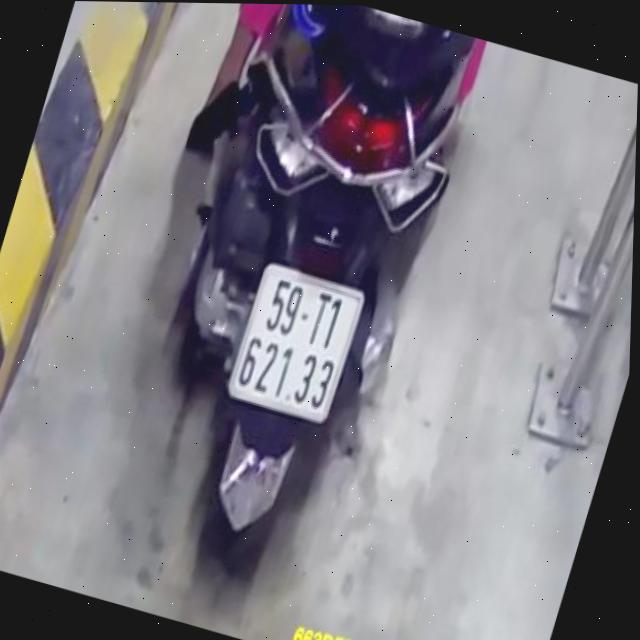motorcycle: (90, 2, 502, 609)
plate: (204, 244, 380, 434)
